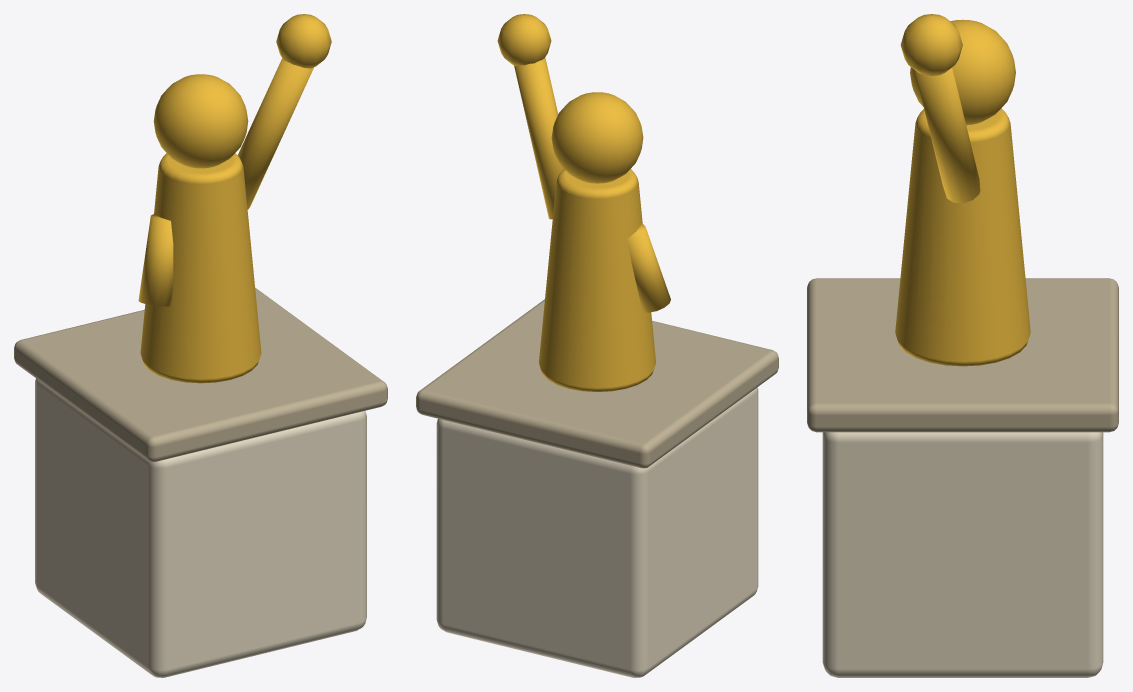
The model's file is gold_statue.glb.
The picture shows the model from 3 angles, left to right: view 1: azimuth 30°, elevation 25°; view 2: azimuth 150°, elevation 25°; view 3: azimuth 270°, elevation 25°; orthographic projection. The views are drawn at different scales.
Parts seen in each view (by area): view 1: gold_statue; view 2: gold_statue; view 3: gold_statue.
Boxes of the visible parts, x1,y1,x2,y2 form: gold_statue: (14,14,387,677); gold_statue: (416,14,778,677); gold_statue: (807,14,1118,677).
Bounding box in the file's own units: 1 × 2.32 × 1.
